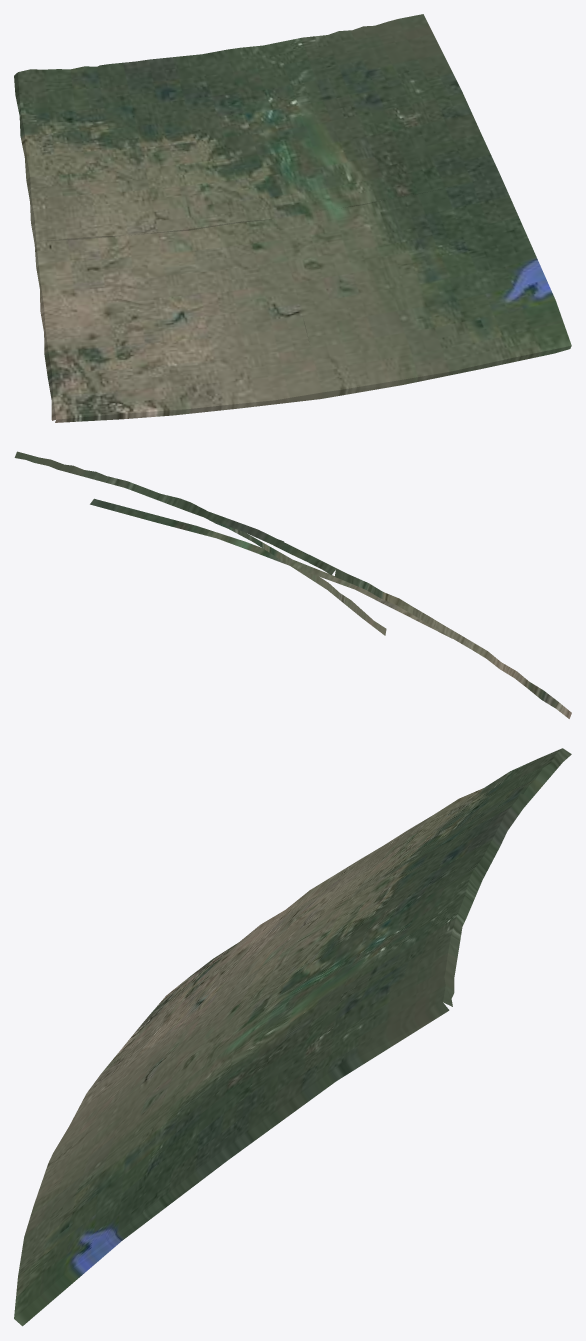
The picture shows the model from 3 angles, top to bottom: view 1: azimuth 30°, elevation 25°; view 2: azimuth 150°, elevation 25°; view 3: azimuth 270°, elevation 25°; orthographic projection. The views are drawn at different scales.
Size of the model in its own units: 1750679 by 827492 by 1264307.
1 material, 1 textured.
